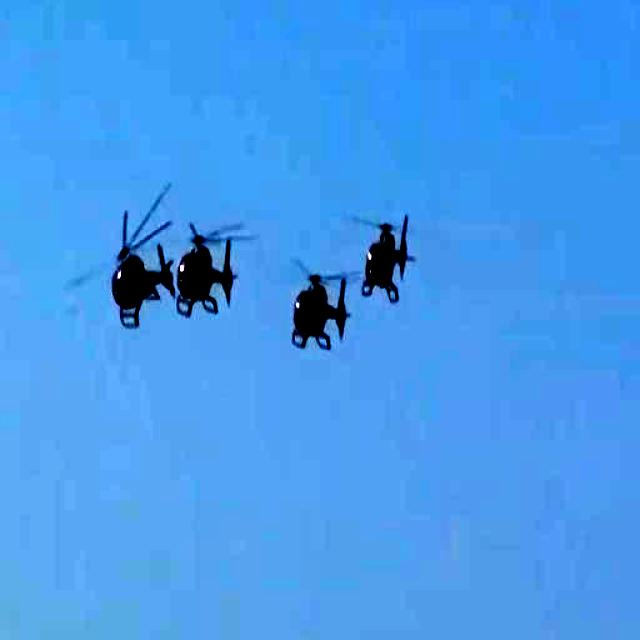drone: (346, 196, 424, 326), (98, 224, 169, 344), (279, 268, 364, 364), (170, 215, 230, 326)
